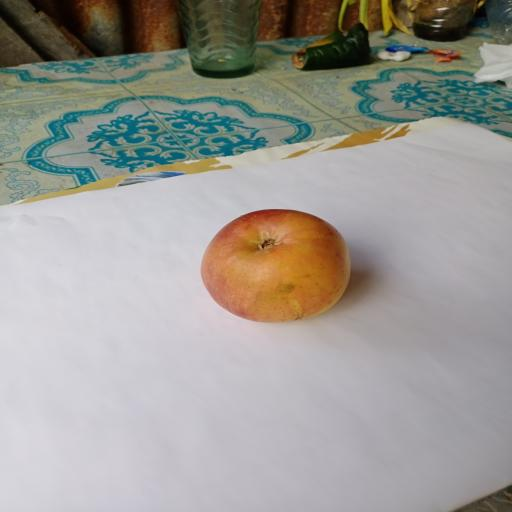apple-ripe: (196, 202, 357, 329)
